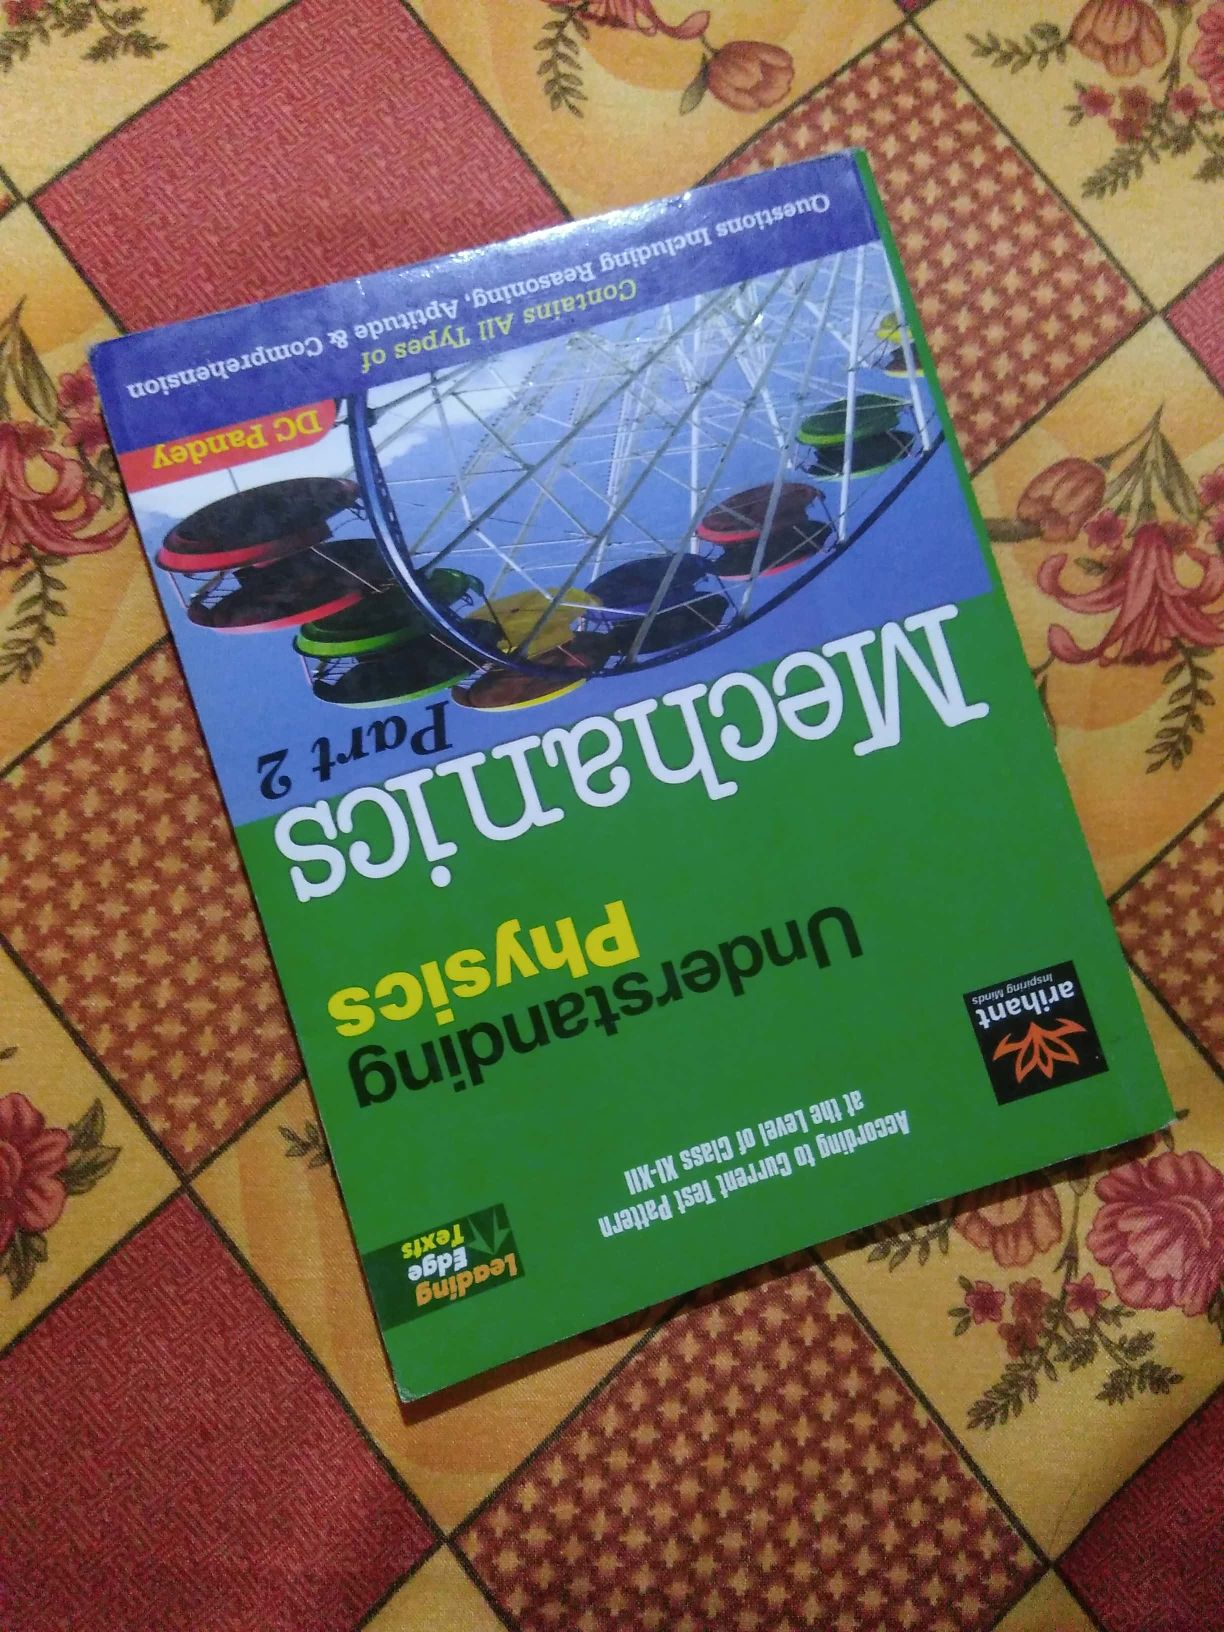mechanics: (69, 215, 1197, 1322)
